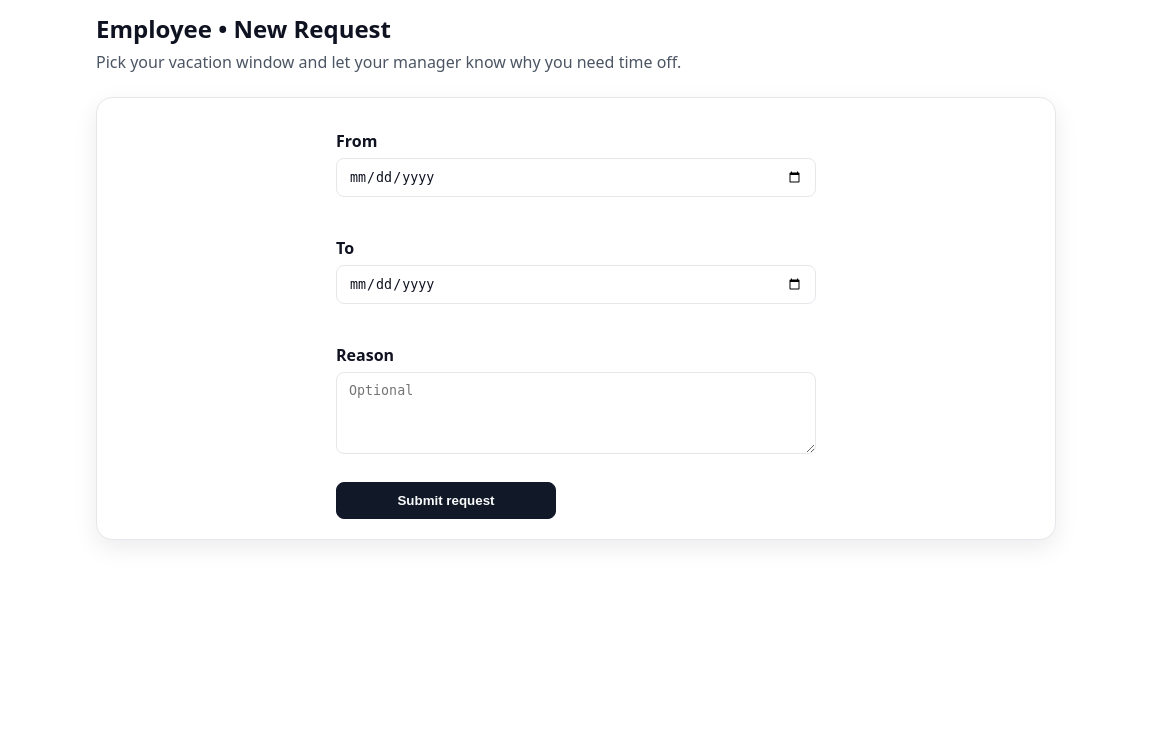
Test case: NewRequest › validates missing dates
Click the button "Submit request" at (446, 501), box x1=336 y1=482 x2=556 y2=519
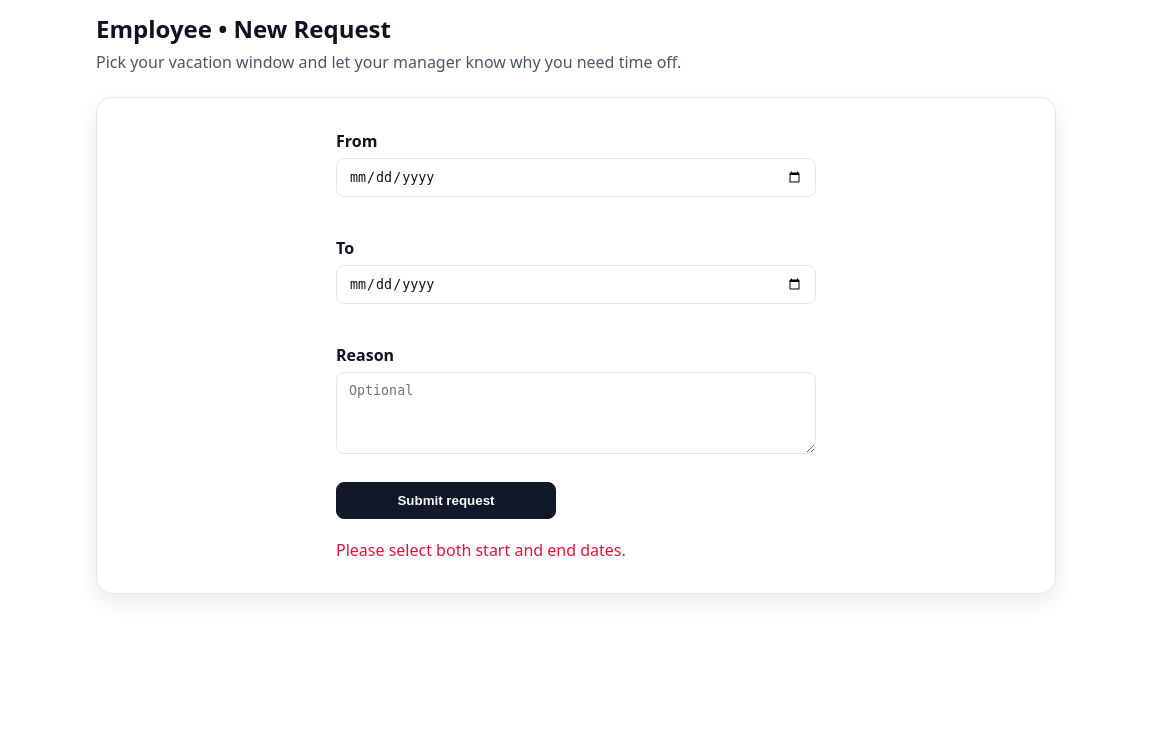
Expected: the text "Please select both start and end dates." is shown, x1=336 y1=539 x2=626 y2=561
